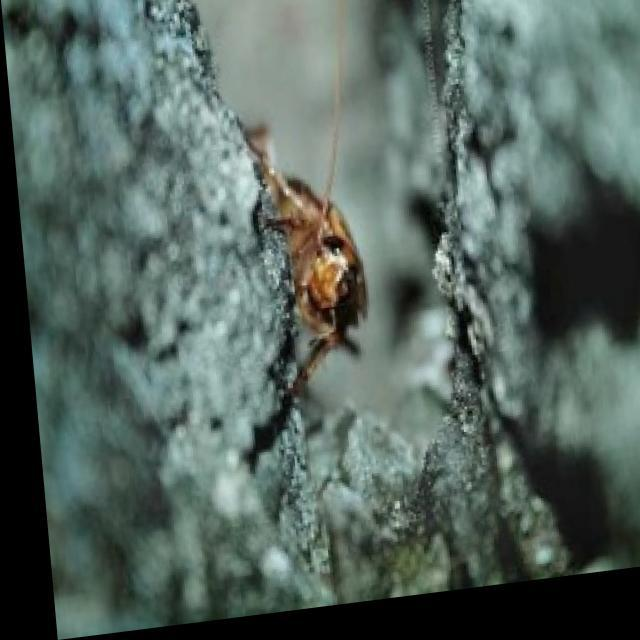cockroach: (260, 173, 371, 341)
